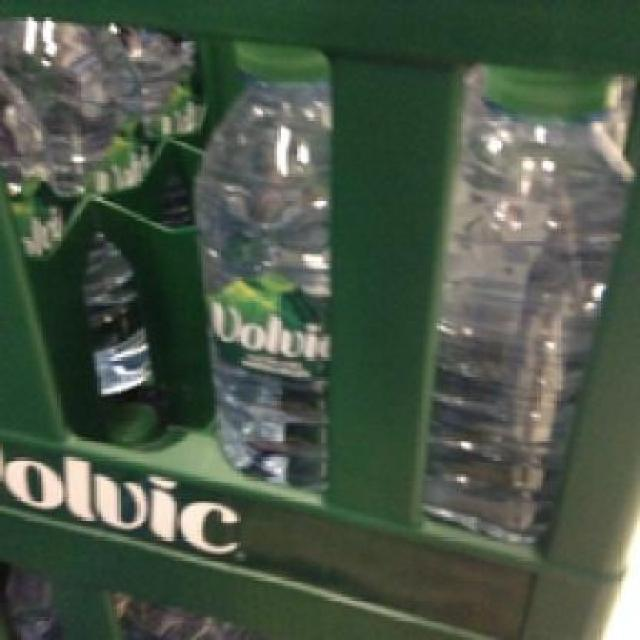Water: (417, 60, 634, 543), (182, 34, 332, 492)
